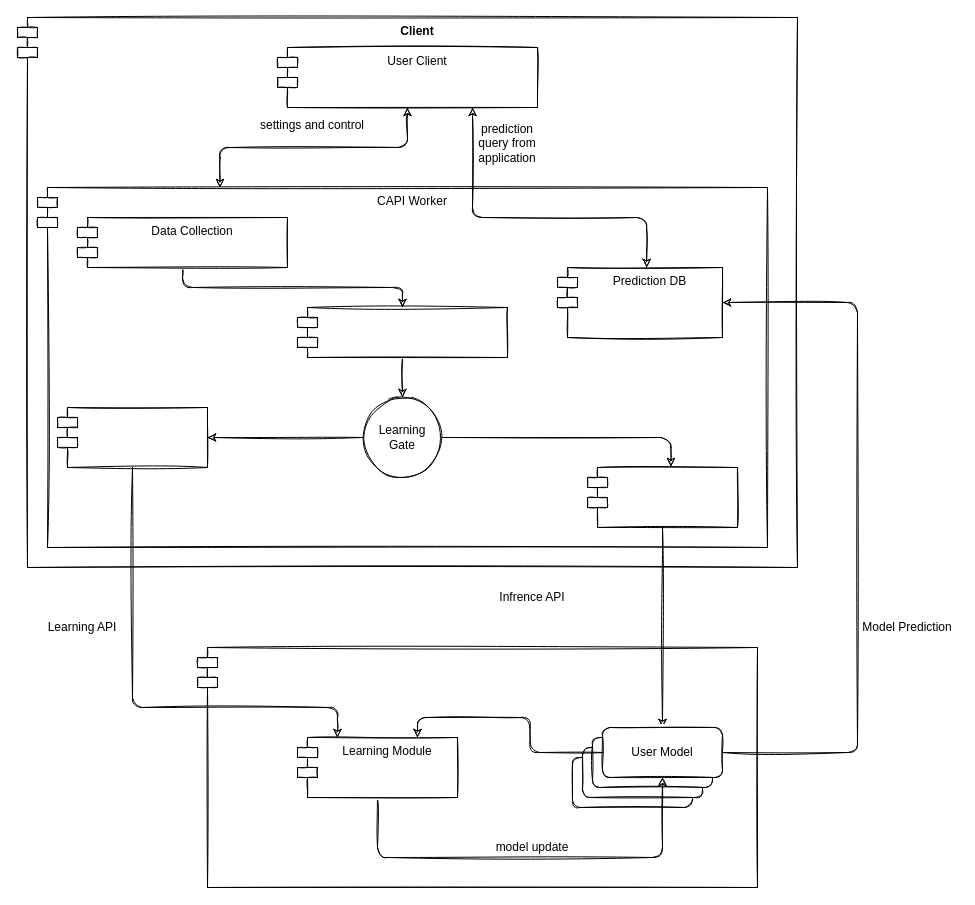
Image size: 975x905. Some labels were removed from this diagram. Each missing label, with the box of its shape:
Augmentation: (586, 466, 738, 528)
Data Processing: (296, 306, 508, 358)
Labling: (56, 406, 208, 468)
Server: (196, 646, 758, 888)
